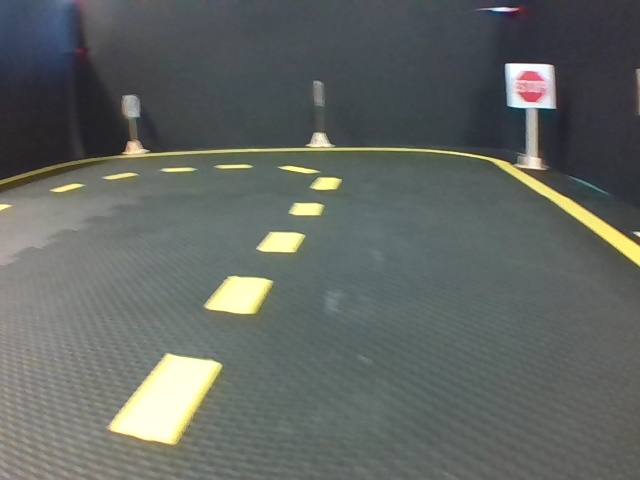30: (316, 83, 322, 105)
no30: (124, 95, 139, 118)
stop: (507, 61, 554, 108)
